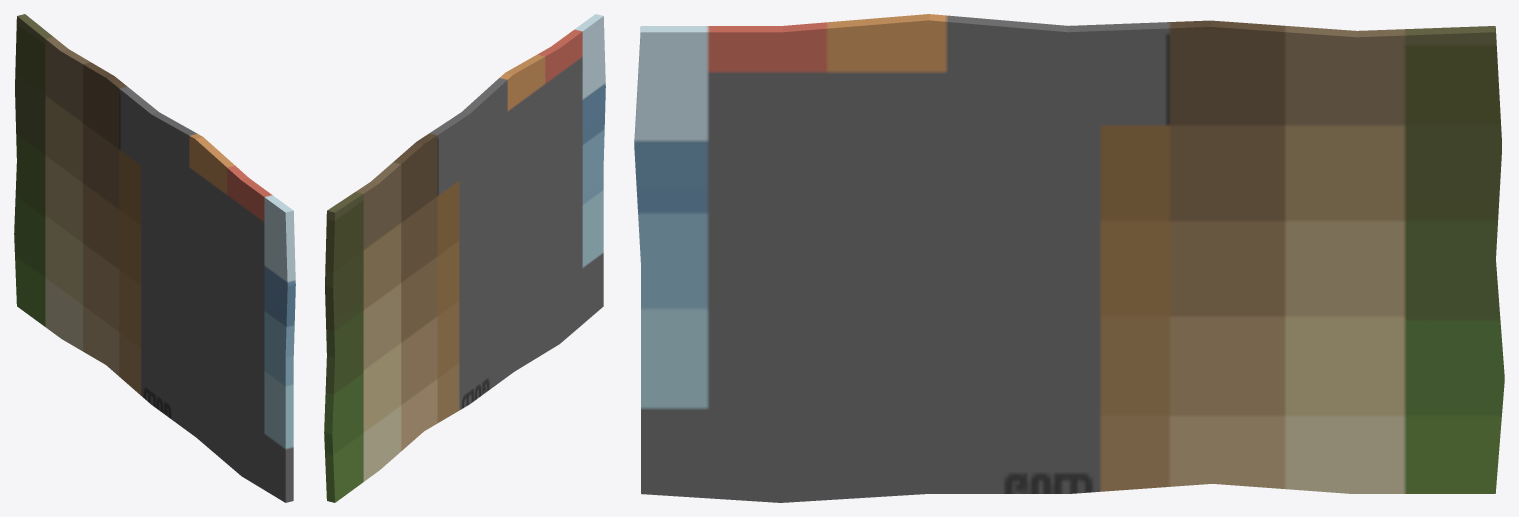
File: SM_Flag_Pirate_01.glb
3 views of the same model, side by side, from view 1: azimuth 30°, elevation 25°; view 2: azimuth 150°, elevation 25°; view 3: azimuth 270°, elevation 25° (orthographic). The views are drawn at different scales.
Visible parts, largest first — view 1: SM_Flag_Pirate_01_00; view 2: SM_Flag_Pirate_01_00; view 3: SM_Flag_Pirate_01_00.
Part boxes in pixels (x1,y1,x2,y2): SM_Flag_Pirate_01_00: [14, 14, 295, 502]; SM_Flag_Pirate_01_00: [324, 14, 605, 502]; SM_Flag_Pirate_01_00: [634, 14, 1504, 502].
Size of the model in its own units: 0.0403 by 1.42 by 2.32.
Materials: 1 (1 with a texture image).
